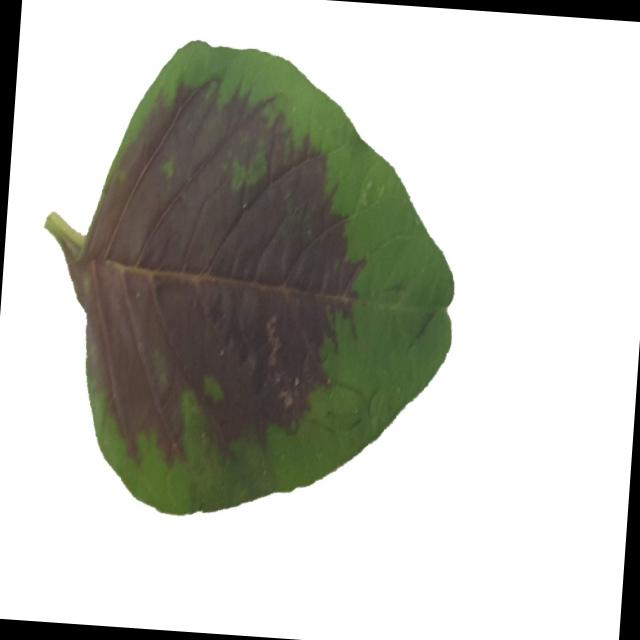Medicinal-Arive Dantu: (22, 28, 470, 537)
